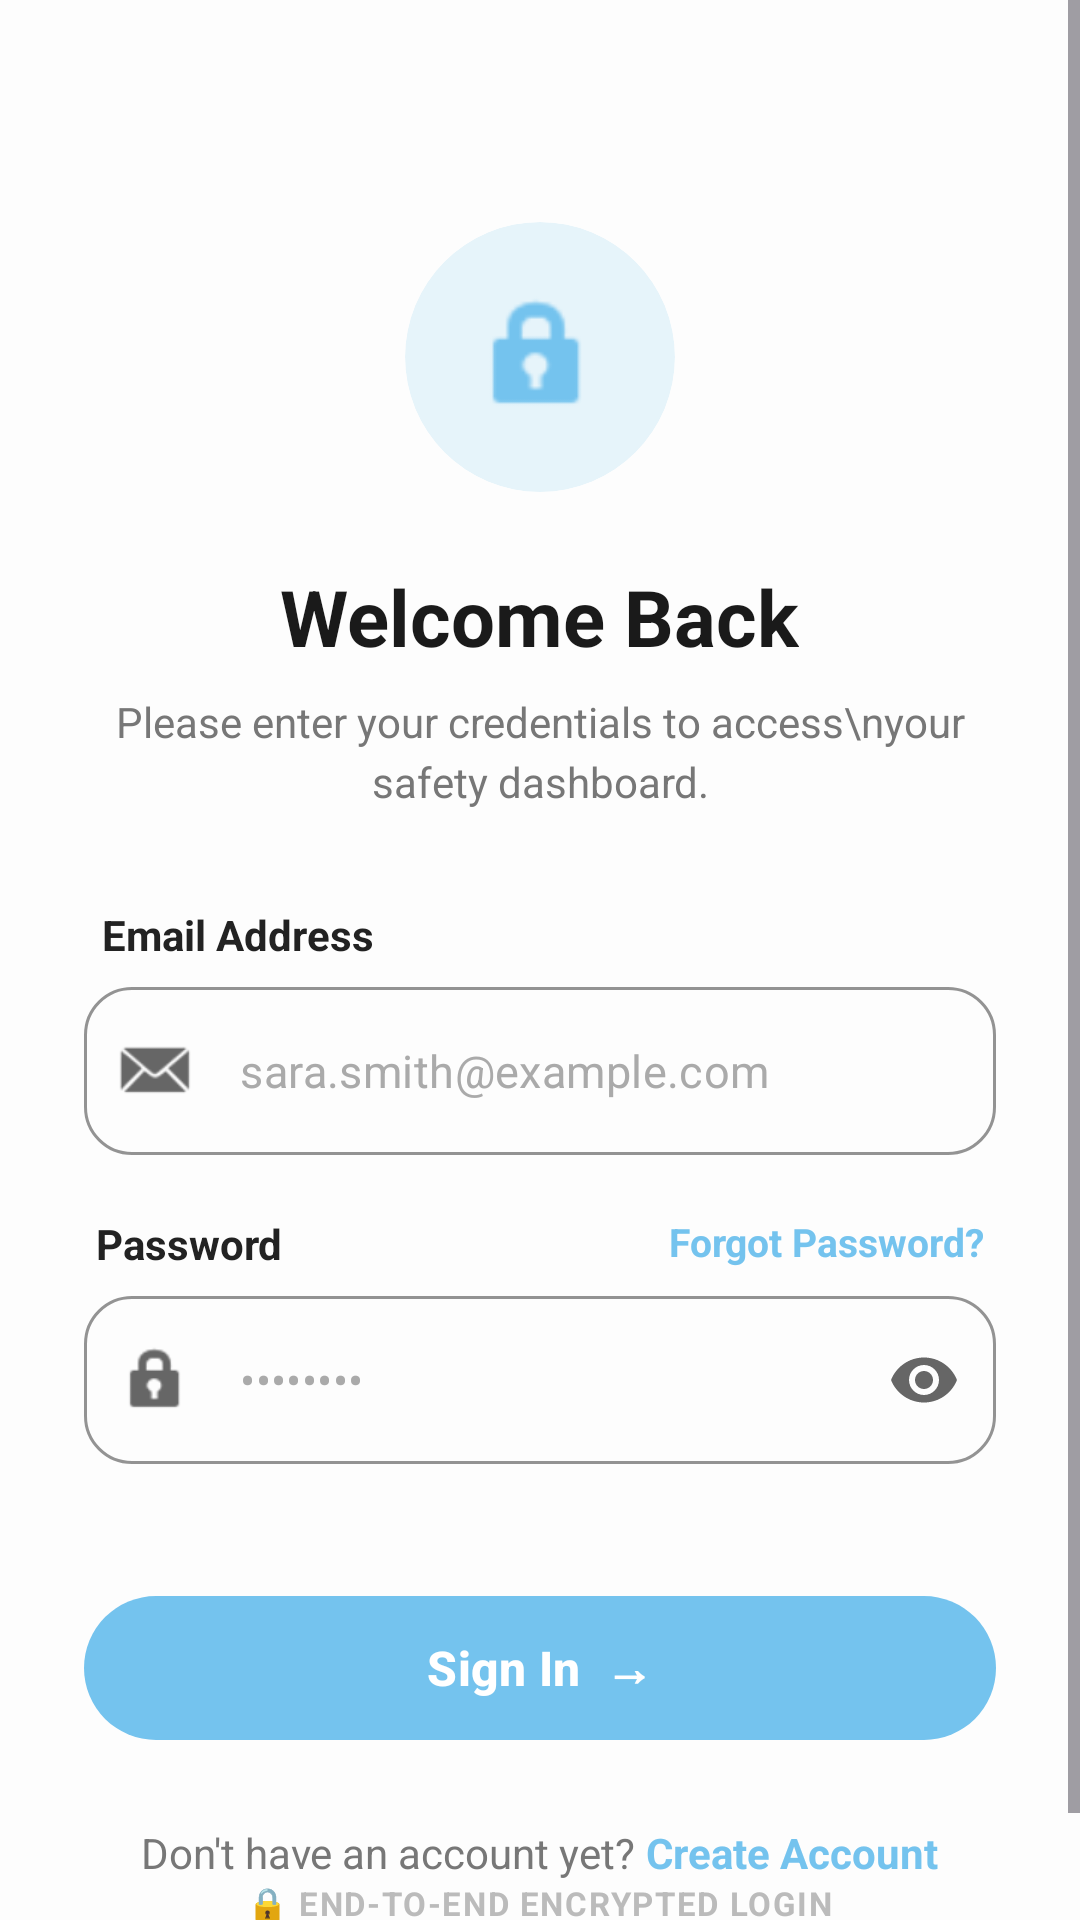

Icon bounding boxes for this 1080×1920 phone screenshot, format detection(x1, y1, x2, y2):
lock idle: detection(492, 301, 580, 404)
